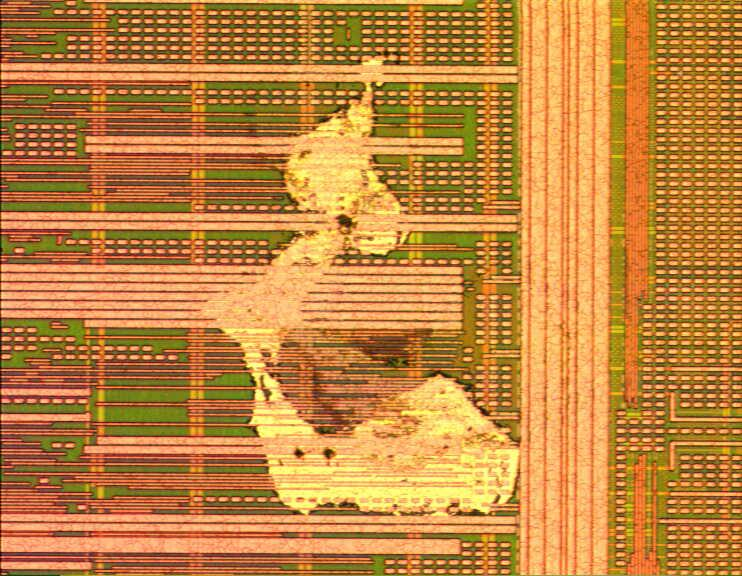BLOCK ETCH: (198, 52, 528, 526)
